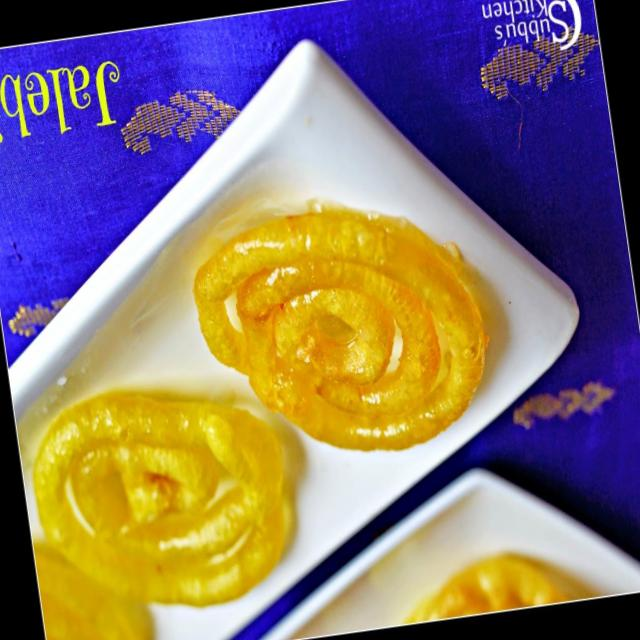jalebi: (185, 186, 509, 489), (15, 357, 309, 640)
